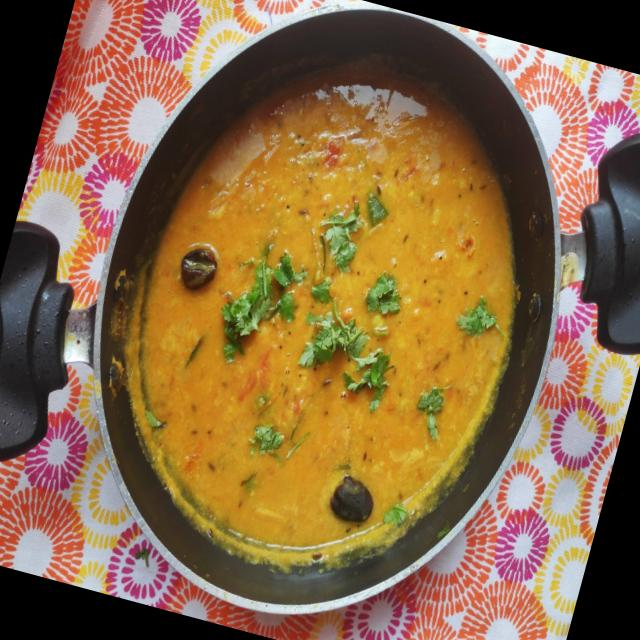dal: (64, 4, 579, 610)
